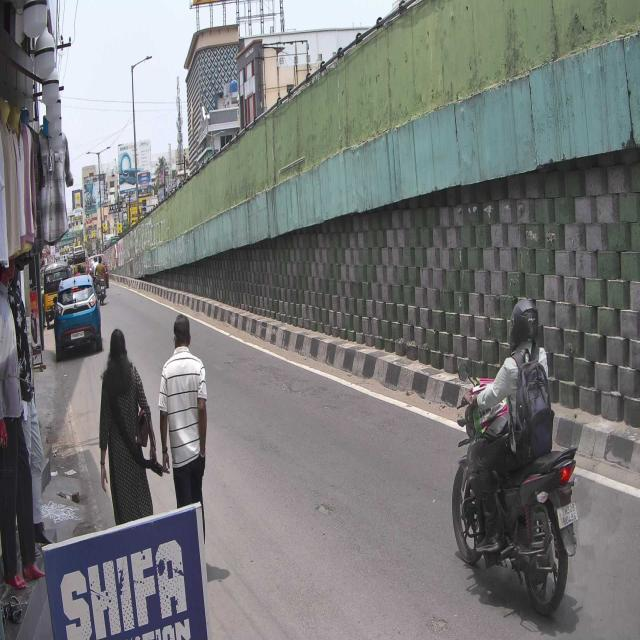single_rider: (453, 294, 578, 616)
